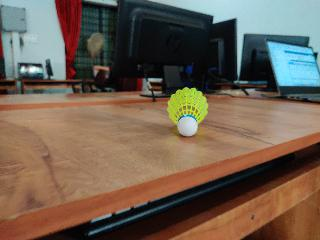shuttlecock: (166, 86, 208, 138)
